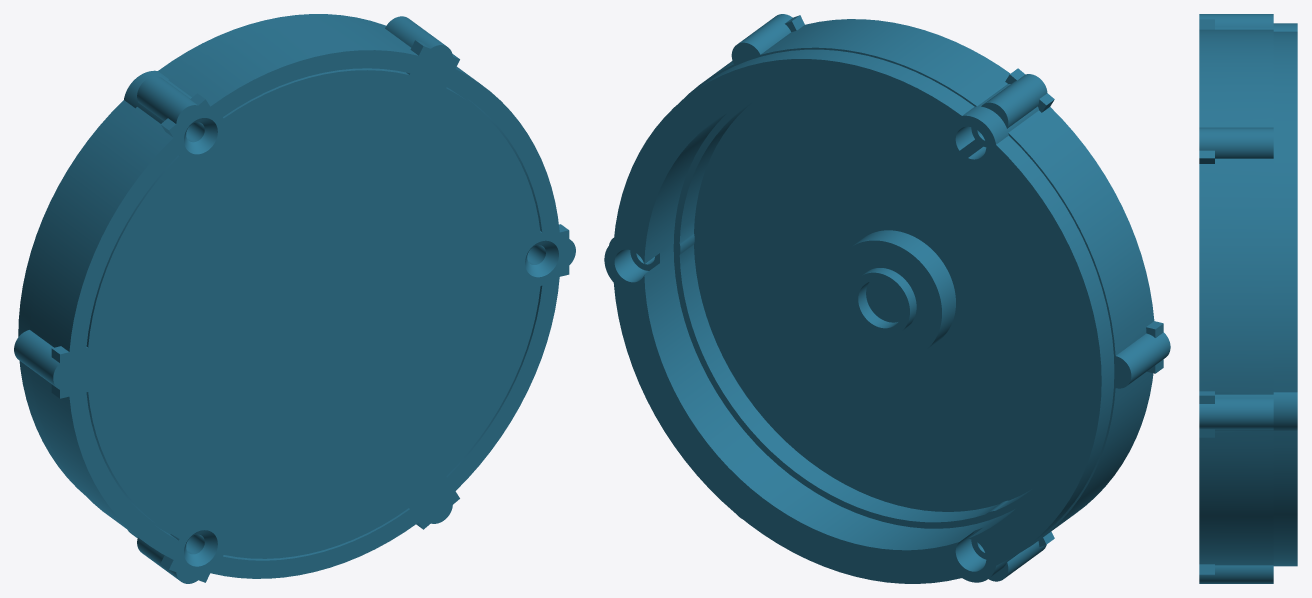
Rendered from Cap_ships_wheel.obj.
3 renders of one model, left to right at view 1: azimuth 30°, elevation 25°; view 2: azimuth 150°, elevation 25°; view 3: azimuth 270°, elevation 25°, orthographic. The views are drawn at different scales.
Visible parts, largest first — view 1: Cap_ships_wheel; view 2: Cap_ships_wheel; view 3: Cap_ships_wheel.
Boxes of the visible parts, x1,y1,x2,y2 form: Cap_ships_wheel: [14, 14, 575, 583]; Cap_ships_wheel: [604, 14, 1170, 583]; Cap_ships_wheel: [1199, 14, 1297, 583].
Bounding box in the file's own units: 61.6 × 58 × 10.6.
